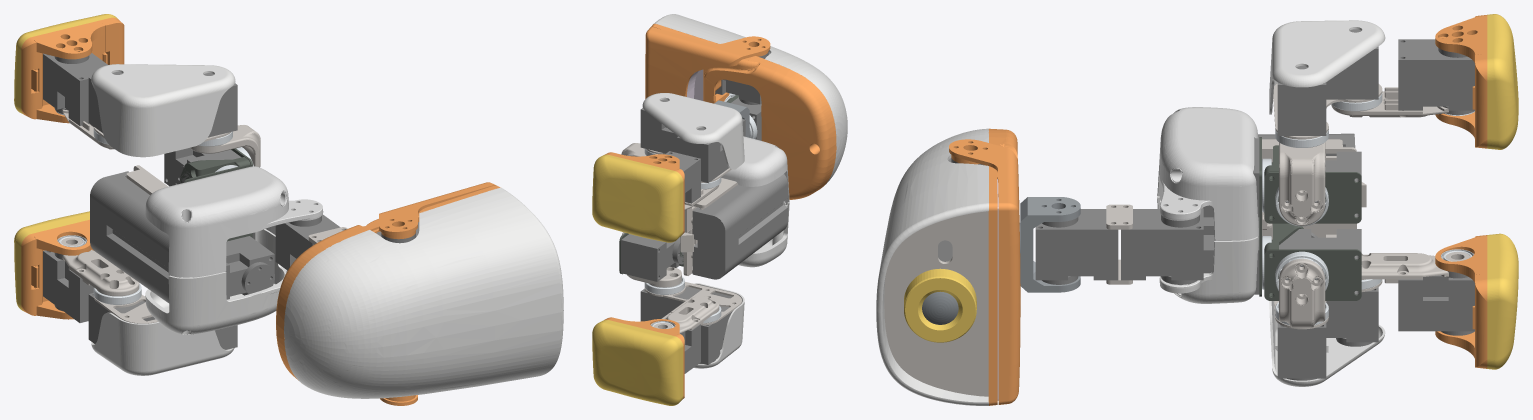
The model's file is duck.glb.
3 views of the same model, side by side, from view 1: azimuth 30°, elevation 25°; view 2: azimuth 150°, elevation 25°; view 3: azimuth 270°, elevation 25° (orthographic). The views are drawn at different scales.
Visible parts, largest first — view 1: geom:48, geom:11, geom:20, geom:8, geom:2, geom:72, geom:27, geom:32, geom:10, geom:30, geom:74, geom:57 (+15 smaller); view 2: geom:57, geom:8, geom:28, geom:78, geom:55, geom:20, geom:48, geom:63, geom:11, geom:75, geom:21, geom:6 (+19 smaller); view 3: geom:44, geom:11, geom:48, geom:55, geom:20, geom:34, geom:35, geom:27, geom:74, geom:78, geom:28, geom:2 (+26 smaller).
Part boxes in pixels (x1,y1,x2,y2): geom:48: (284,187,563,398); geom:11: (145,166,323,277); geom:20: (91,64,235,157); geom:8: (90,171,169,303); geom:2: (145,229,287,334); geom:72: (91,312,234,375); geom:27: (43,53,107,125); geom:32: (34,23,105,123); geom:10: (225,236,274,299); geom:30: (21,17,124,119); geom:74: (43,250,101,322); geom:57: (276,185,500,380); geom:57: (651,23,836,199); geom:8: (692,174,787,279); geom:28: (592,154,683,242); geom:78: (592,320,683,405); geom:55: (645,27,770,98); geom:20: (642,93,744,169); geom:48: (654,14,847,184); geom:63: (621,234,683,281); geom:11: (721,136,789,205); geom:75: (653,296,719,333); geom:21: (676,128,728,182); geom:6: (680,178,737,275); geom:44: (884,211,988,396); geom:11: (1157,107,1258,240); geom:48: (876,128,988,405); geom:55: (949,139,1020,404); geom:20: (1269,20,1385,114); geom:34: (1121,209,1203,284); geom:35: (1035,209,1118,284); geom:27: (1398,39,1474,115); geom:74: (1398,271,1474,335); geom:78: (1487,233,1518,369); geom:28: (1487,14,1518,149); geom:2: (1157,192,1258,303).
Size of the model in its own units: 0.1441 by 0.141 by 0.264.
